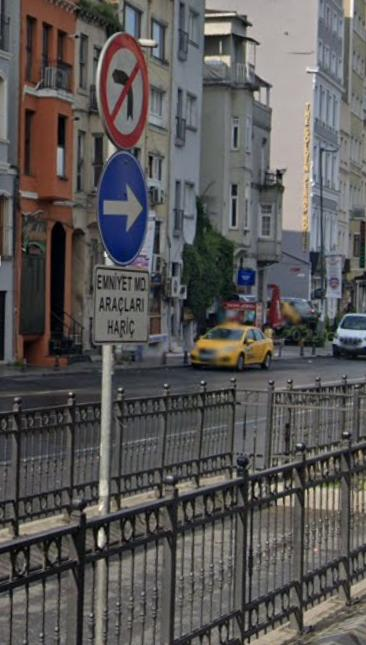leftturnsareforbidden: (96, 32, 158, 150)
turnright: (100, 154, 146, 264)
